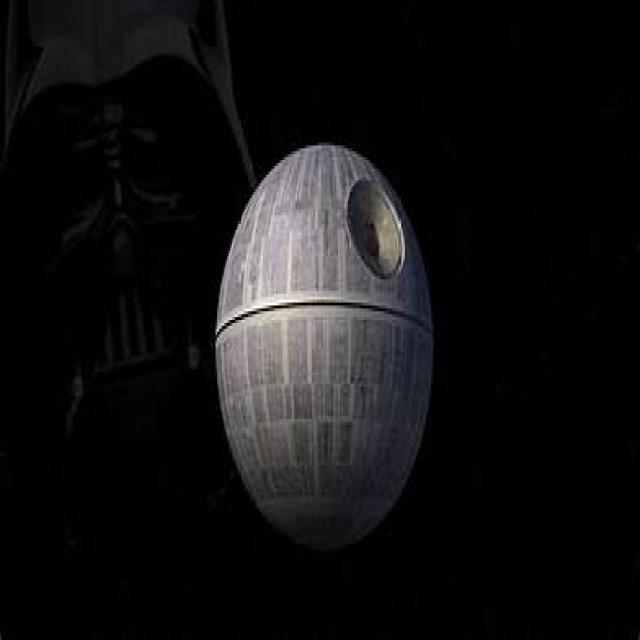deathStar: (212, 135, 436, 549)
